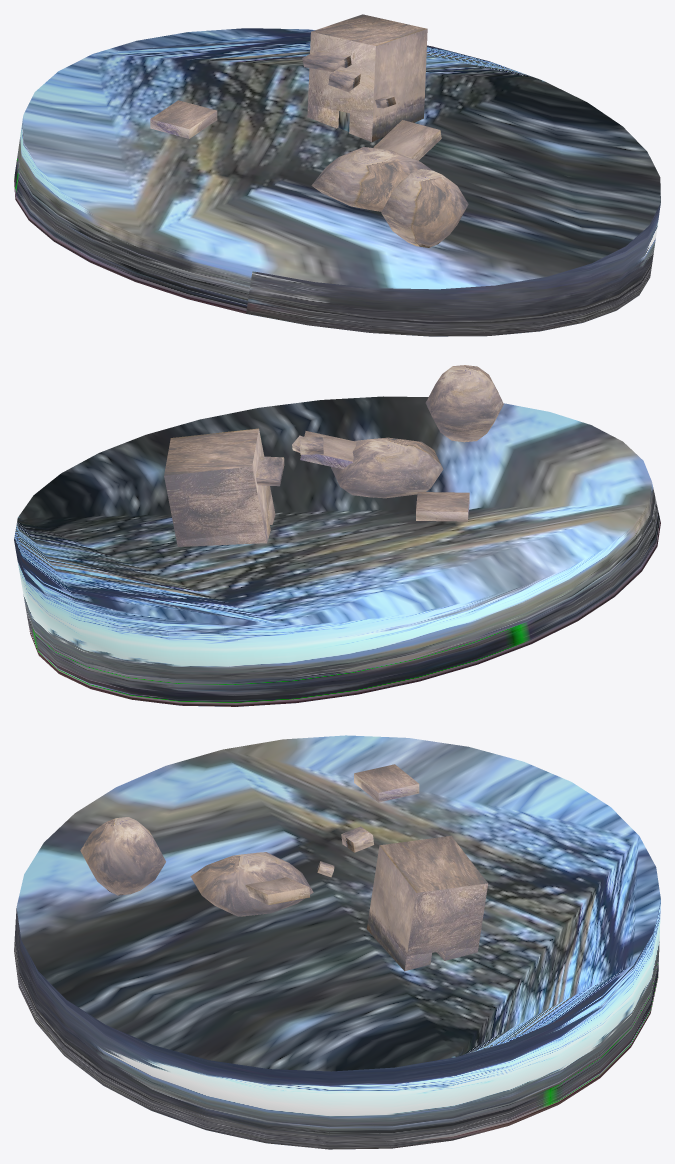
File: level_2.glb
The picture shows the model from 3 angles, top to bottom: view 1: azimuth 30°, elevation 25°; view 2: azimuth 150°, elevation 25°; view 3: azimuth 270°, elevation 25°; orthographic projection.
Parts seen in each view (by area): view 1: Cylinder, Cube.016, Cube.018, Cube.004, Cube.005, Cube.008, Cube.017, Cube.022, Cube.021, Cube.003; view 2: Cylinder, Cube.016, Cube.004, Cube.018, Cube.005, Cube.008, Cube.003, Cube.022; view 3: Cylinder, Cube.016, Cube.018, Cube.004, Cube.005, Cube.008, Cube.017, Cube.021.
Boxes of the visible parts, left/top/right/bottom form: Cylinder: left=14, top=28, right=660, bottom=336; Cube.016: left=308, top=14, right=427, bottom=118; Cube.018: left=381, top=169, right=468, bottom=247; Cube.004: left=311, top=147, right=432, bottom=211; Cube.005: left=150, top=100, right=217, bottom=138; Cube.008: left=373, top=120, right=441, bottom=160; Cube.017: left=349, top=101, right=424, bottom=141; Cube.022: left=302, top=50, right=351, bottom=71; Cube.021: left=328, top=66, right=360, bottom=92; Cube.003: left=307, top=104, right=338, bottom=128; Cylinder: left=14, top=396, right=660, bottom=706; Cube.016: left=164, top=428, right=271, bottom=540; Cube.004: left=331, top=437, right=443, bottom=498; Cube.018: left=425, top=365, right=503, bottom=442; Cube.005: left=416, top=492, right=469, bottom=521; Cube.008: left=300, top=431, right=356, bottom=469; Cube.003: left=176, top=514, right=270, bottom=546; Cube.022: left=256, top=456, right=284, bottom=486; Cylinder: left=14, top=735, right=660, bottom=1149; Cube.016: left=370, top=836, right=488, bottom=955; Cube.018: left=80, top=817, right=165, bottom=895; Cube.004: left=190, top=852, right=313, bottom=916; Cube.005: left=354, top=764, right=419, bottom=802; Cube.008: left=245, top=877, right=309, bottom=904; Cube.017: left=367, top=909, right=431, bottom=971; Cube.021: left=341, top=826, right=373, bottom=852.
Bounding box in the file's own units: 134 × 46.24 × 133.
Materials: 2 (2 with a texture image).
